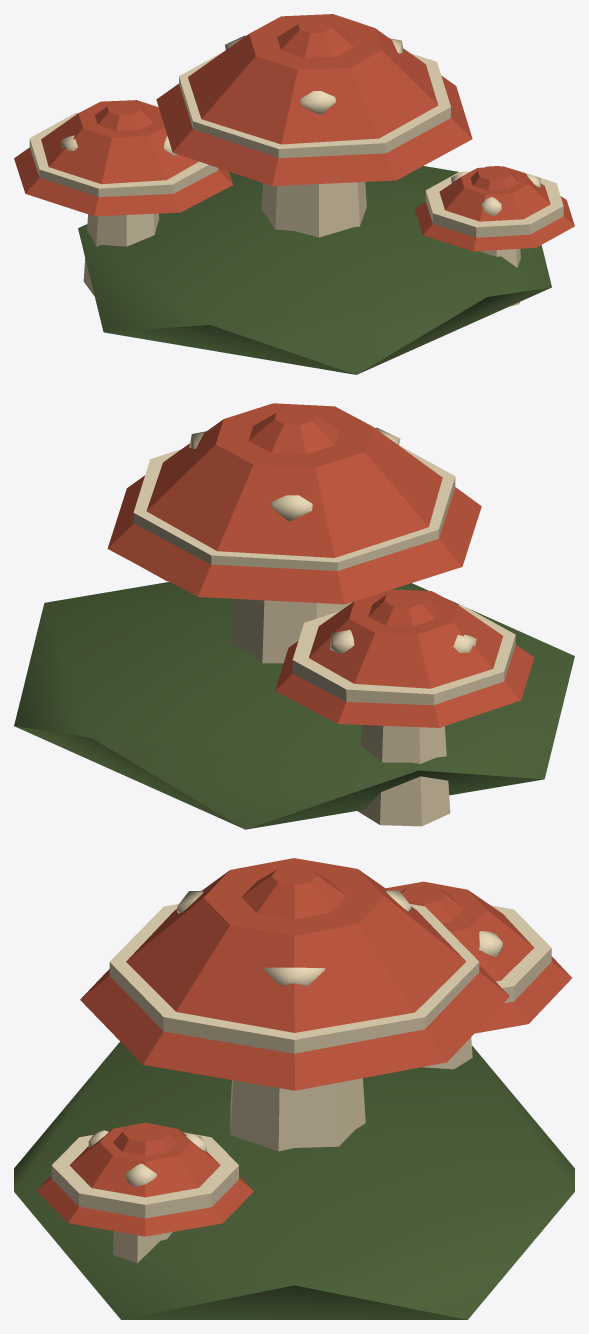
The model's file is foliage_mushroom_cluster_a.glb.
3 renders of one model, top to bottom at view 1: azimuth 30°, elevation 25°; view 2: azimuth 150°, elevation 25°; view 3: azimuth 270°, elevation 25°, orthographic. The views are drawn at different scales.
Parts seen in each view (by area): view 1: shroom_litter, shroom_cap_0, shroom_gills_0; view 2: shroom_litter, shroom_cap_0, shroom_gills_0; view 3: shroom_litter, shroom_cap_0, shroom_gills_0.
Part boxes in pixels (bbox=[...]): shroom_litter: bbox=[78, 166, 551, 374]; shroom_cap_0: bbox=[14, 14, 574, 251]; shroom_gills_0: bbox=[29, 35, 563, 306]; shroom_litter: bbox=[14, 582, 574, 829]; shroom_cap_0: bbox=[107, 403, 534, 727]; shroom_gills_0: bbox=[133, 427, 515, 826]; shroom_litter: bbox=[14, 1041, 574, 1319]; shroom_cap_0: bbox=[36, 858, 571, 1236]; shroom_gills_0: bbox=[51, 890, 551, 1263].
Bounding box in the file's own units: 0.239 × 0.1431 × 0.1957.
